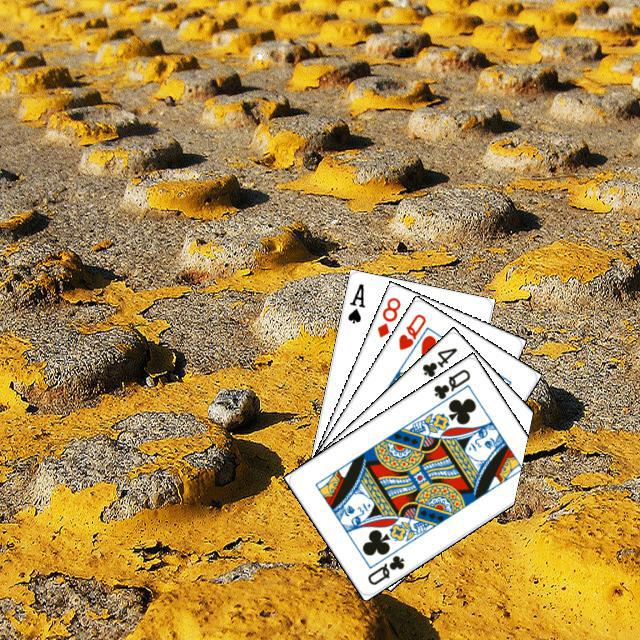4c: (417, 342, 459, 379)
8d: (372, 292, 402, 339)
As: (343, 278, 367, 325)
Qc: (428, 364, 472, 408), (362, 550, 406, 587)
Qh: (393, 309, 428, 352)
